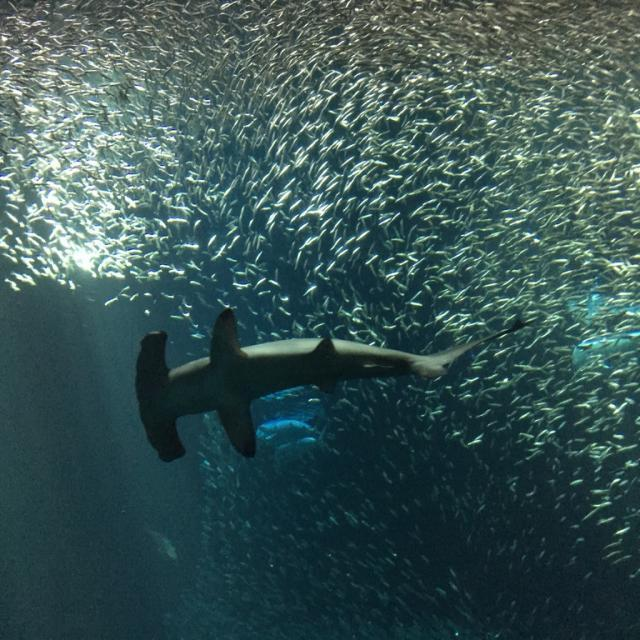Shark: (94, 286, 519, 481)
